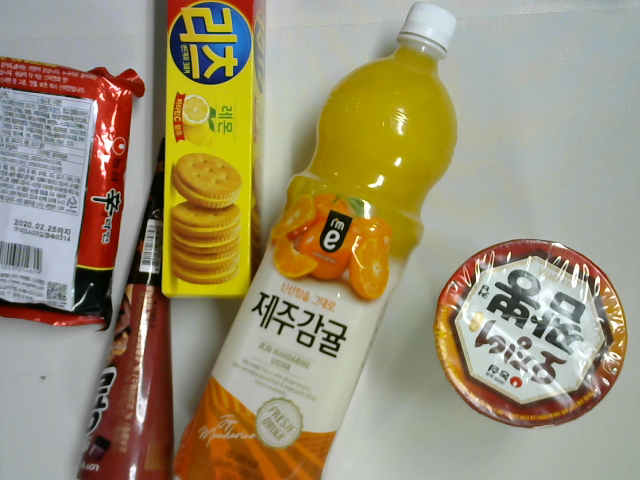GooGoo_Cone_CVS: (76, 136, 175, 480)
Jeju_Tangerine_1.5L: (171, 2, 463, 480)
Ojjam: (431, 237, 630, 432)
Ritz_Remon_96g: (162, 1, 263, 305)
Sinramen: (1, 56, 146, 338)
